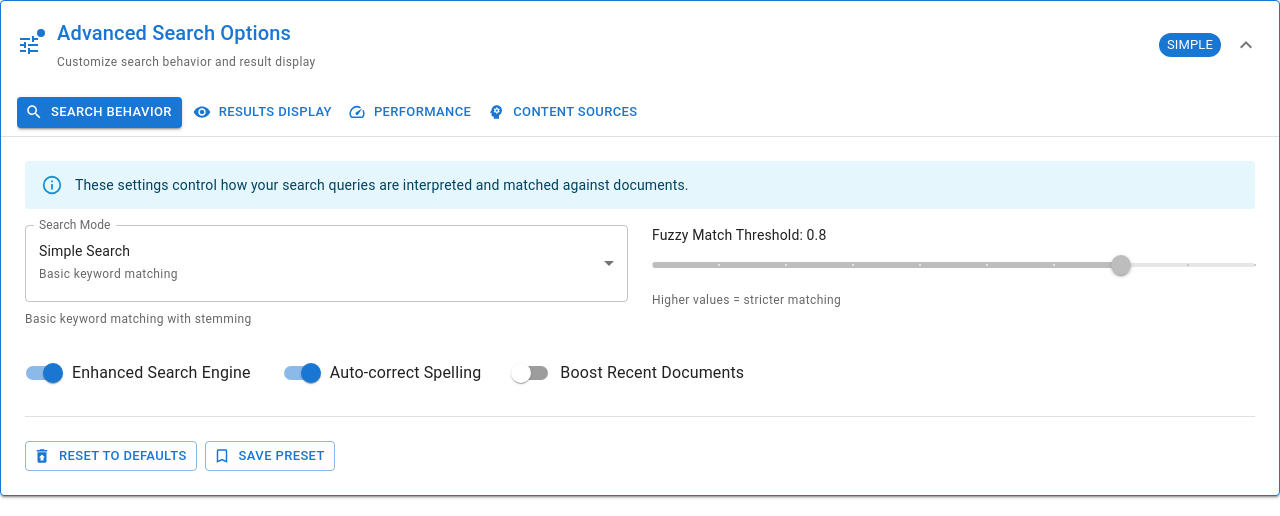
Test: AdvancedSearchPanel › switches between sections correctly
// Click on Results Display section
Click the button "Results Display". click: (263, 112)
box: [190,97,337,128]
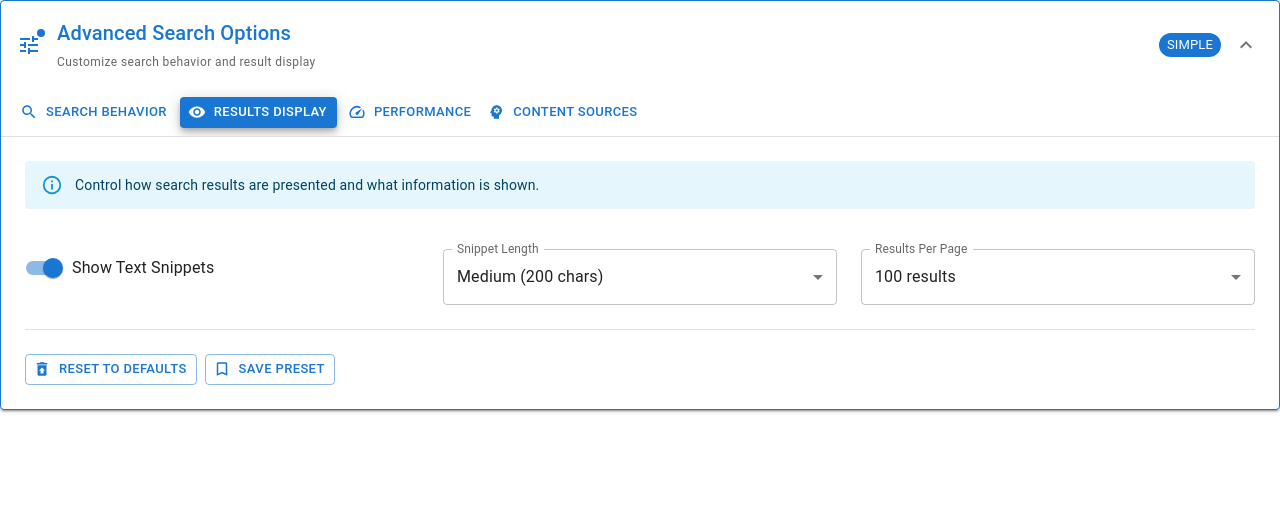
Expected: the switch labelled "Show Text Snippets" is shown, [26,258,214,278]
Now the text "Control how search results are presented and what information is shown." is shown, box [75,175,539,195]
